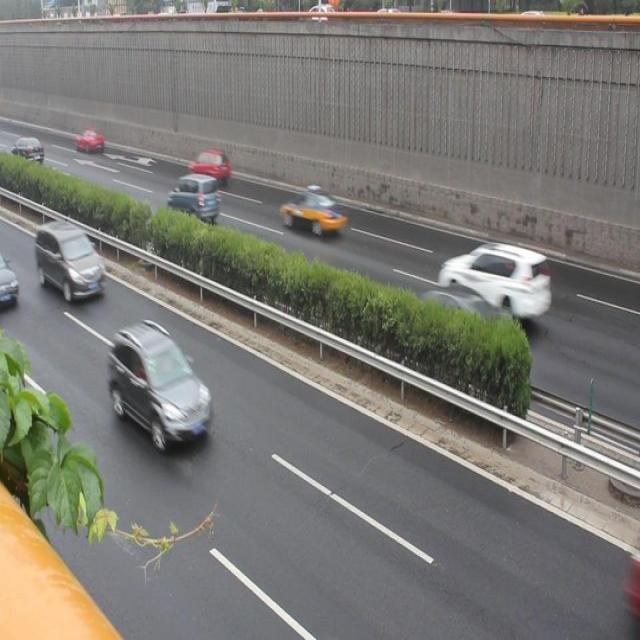car: (108, 320, 213, 446), (439, 237, 554, 330), (408, 279, 517, 366), (277, 184, 348, 248), (166, 172, 221, 229)
truck: (35, 216, 105, 302)
